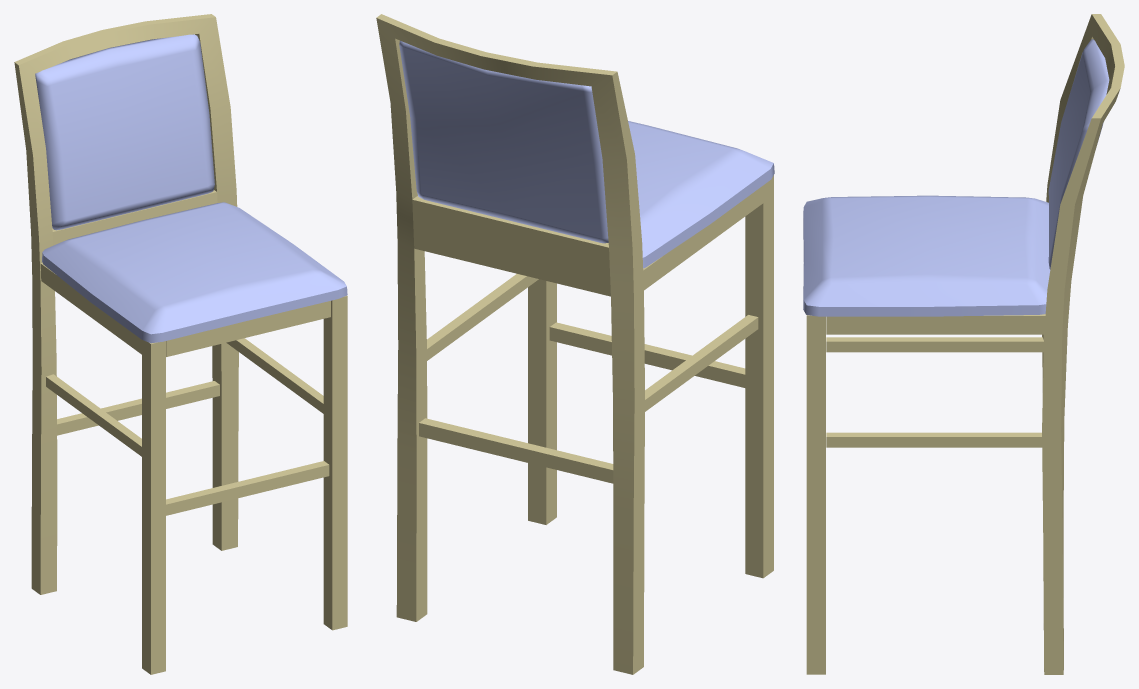
The picture shows the model from 3 angles, left to right: view 1: azimuth 30°, elevation 25°; view 2: azimuth 150°, elevation 25°; view 3: azimuth 270°, elevation 25°; orthographic projection. The views are drawn at different scales.
Parts seen in each view (by area): view 1: chair7; view 2: chair7; view 3: chair7.
Boxes of the visible parts, box(x1,y1,x2,y2) form: chair7: box(14, 14, 347, 674); chair7: box(376, 14, 774, 674); chair7: box(803, 14, 1124, 674).
Bounding box in the file's own units: 47.17 × 114 × 59.69.
